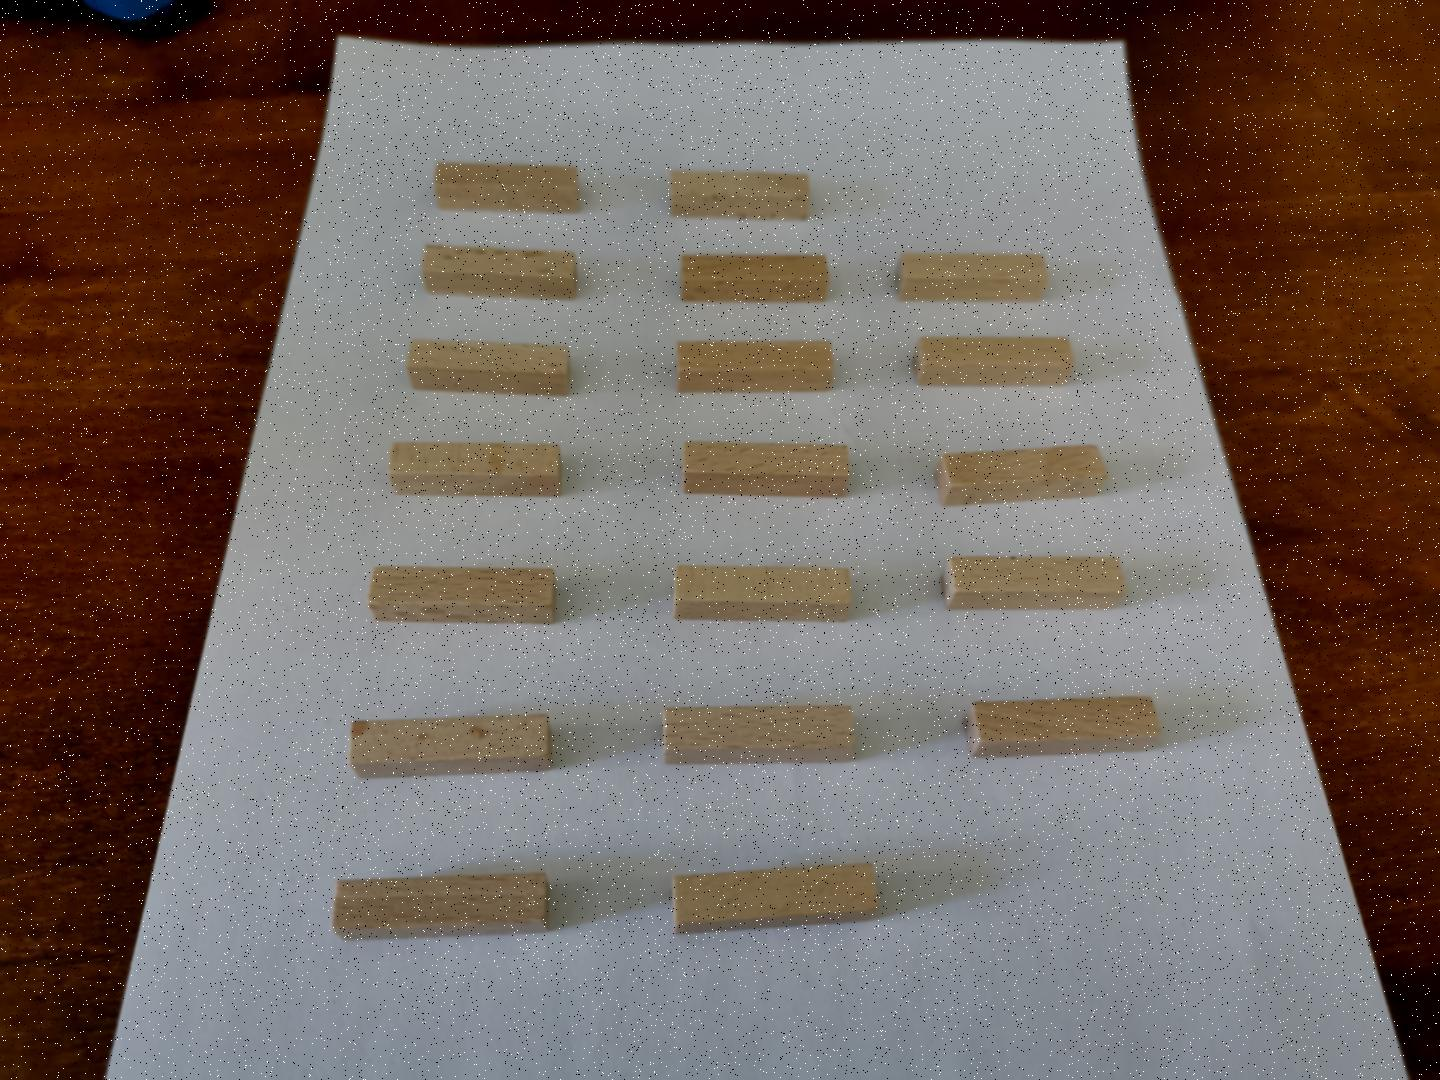jenga: (332, 872, 549, 939), (672, 863, 878, 934), (349, 715, 551, 776), (965, 698, 1161, 757), (663, 706, 855, 765), (369, 565, 554, 624), (937, 445, 1106, 506), (672, 565, 853, 622), (942, 557, 1125, 610), (684, 441, 849, 498), (388, 441, 562, 495), (408, 340, 568, 397), (422, 245, 576, 298), (678, 340, 832, 394), (914, 338, 1075, 386), (895, 253, 1049, 301), (435, 163, 579, 213), (669, 171, 810, 219), (680, 256, 830, 301)
